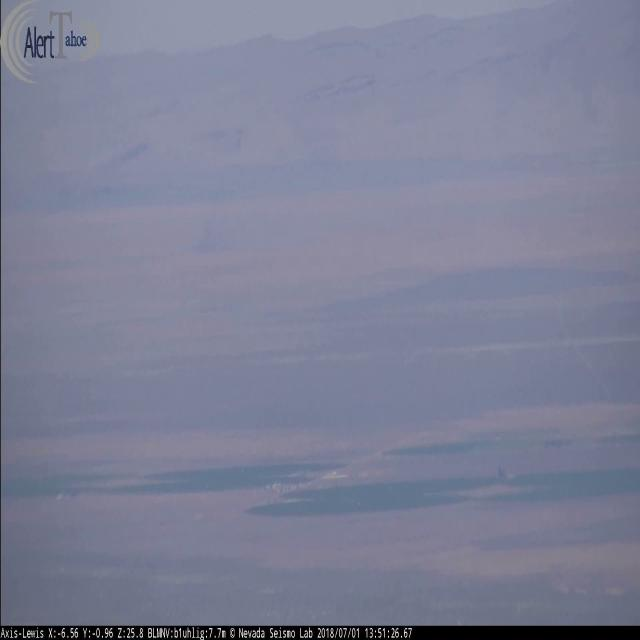smoke: (187, 201, 240, 256)
